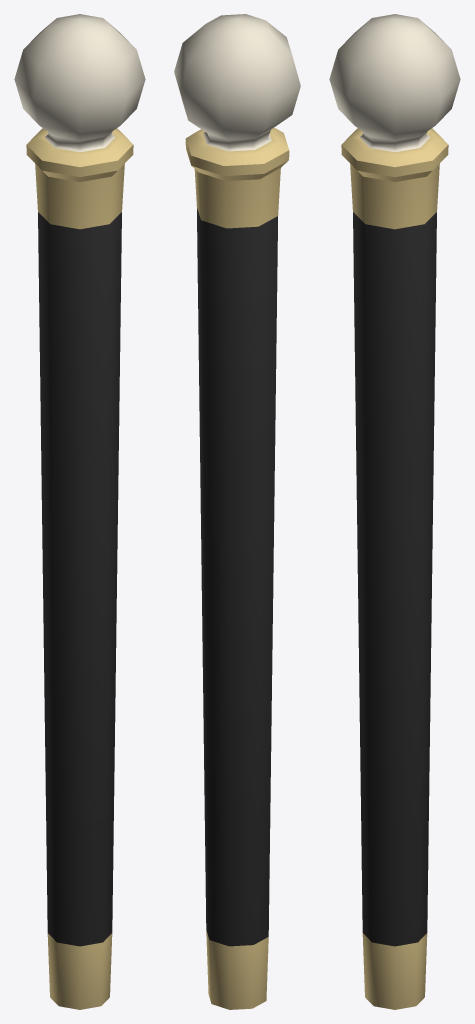
File: HandAcc_9.fbx
3 views of the same model, side by side, from view 1: azimuth 90°, elevation 25°; view 2: azimuth 210°, elevation 25°; view 3: azimuth 270°, elevation 25° (orthographic).
Visible parts, largest first — view 1: HandAcc_9; view 2: HandAcc_9; view 3: HandAcc_9.
Part boxes in pixels (box(x1,y1,x2,y2)): HandAcc_9: box(14, 14, 145, 1009); HandAcc_9: box(174, 14, 300, 1009); HandAcc_9: box(329, 14, 460, 1009).
Bounding box in the file's own units: 9.99 × 82.14 × 9.99.
